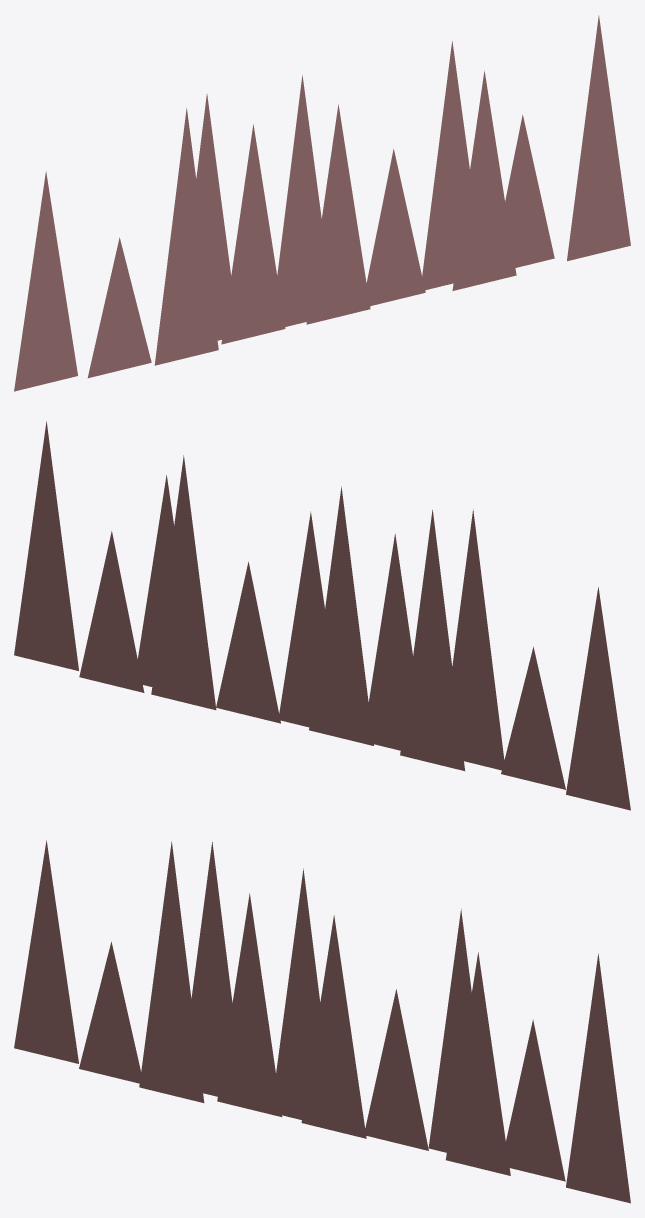
File: SM_TreeLine_01.fbx
3 views of the same model, one above another, from view 1: azimuth 30°, elevation 25°; view 2: azimuth 150°, elevation 25°; view 3: azimuth 330°, elevation 25° (orthographic).
Visible parts, largest first — view 1: TreeLine_01; view 2: TreeLine_01; view 3: TreeLine_01.
Part boxes in pixels (left/top/right/bottom): TreeLine_01: left=14, top=15, right=630, bottom=391; TreeLine_01: left=14, top=421, right=630, bottom=810; TreeLine_01: left=14, top=840, right=630, bottom=1203.
Bounding box in the file's own units: 4303 × 1685 × 120.
